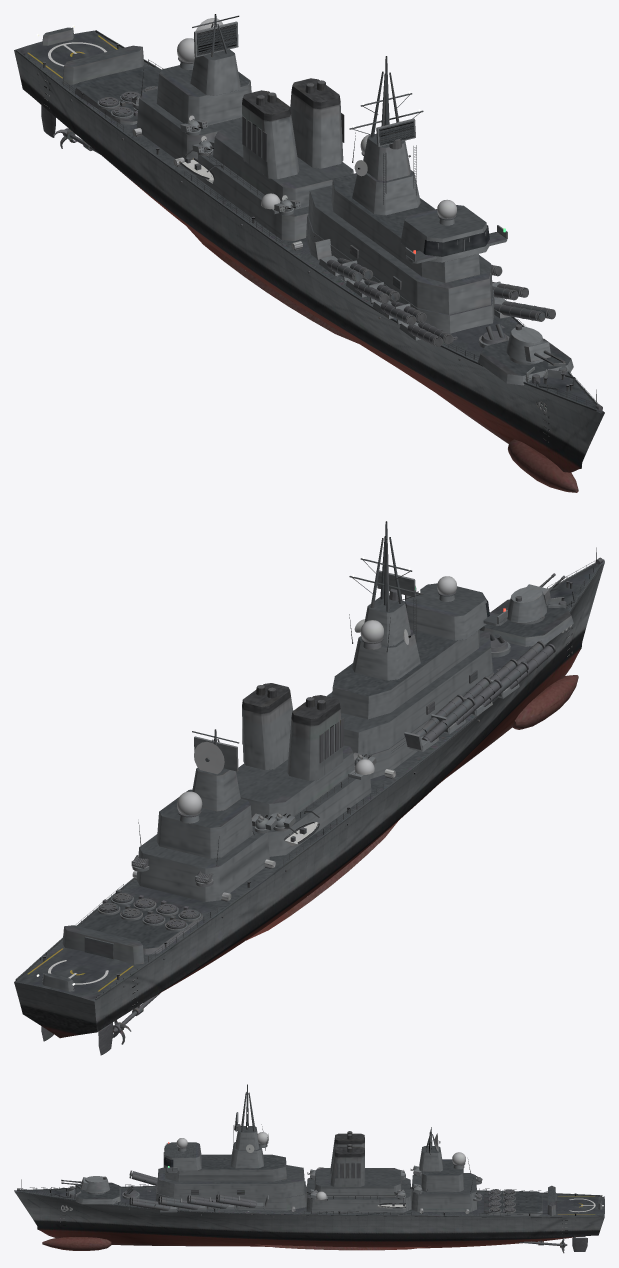
File: enemy_destroyer.glb
The picture shows the model from 3 angles, top to bottom: view 1: azimuth 30°, elevation 25°; view 2: azimuth 150°, elevation 25°; view 3: azimuth 270°, elevation 25°; orthographic projection. The views are drawn at different scales.
Parts seen in each view (by area): view 1: sl_super, sl_hull, sl_detail; view 2: sl_super, sl_hull, sl_detail; view 3: sl_super, sl_hull, sl_detail.
Part boxes in pixels (<box>): sl_super: <box>15,14,602,411</box>; sl_hull: <box>14,30,604,492</box>; sl_detail: <box>18,25,598,442</box>; sl_super: <box>15,521,602,1000</box>; sl_hull: <box>14,559,604,1055</box>; sl_detail: <box>18,547,598,1006</box>; sl_super: <box>17,1084,602,1217</box>; sl_hull: <box>14,1187,604,1253</box>; sl_detail: <box>20,1112,603,1233</box>.
Size of the model in its own units: 23.93 by 57.39 by 186.
Materials: 16 (16 with a texture image).
